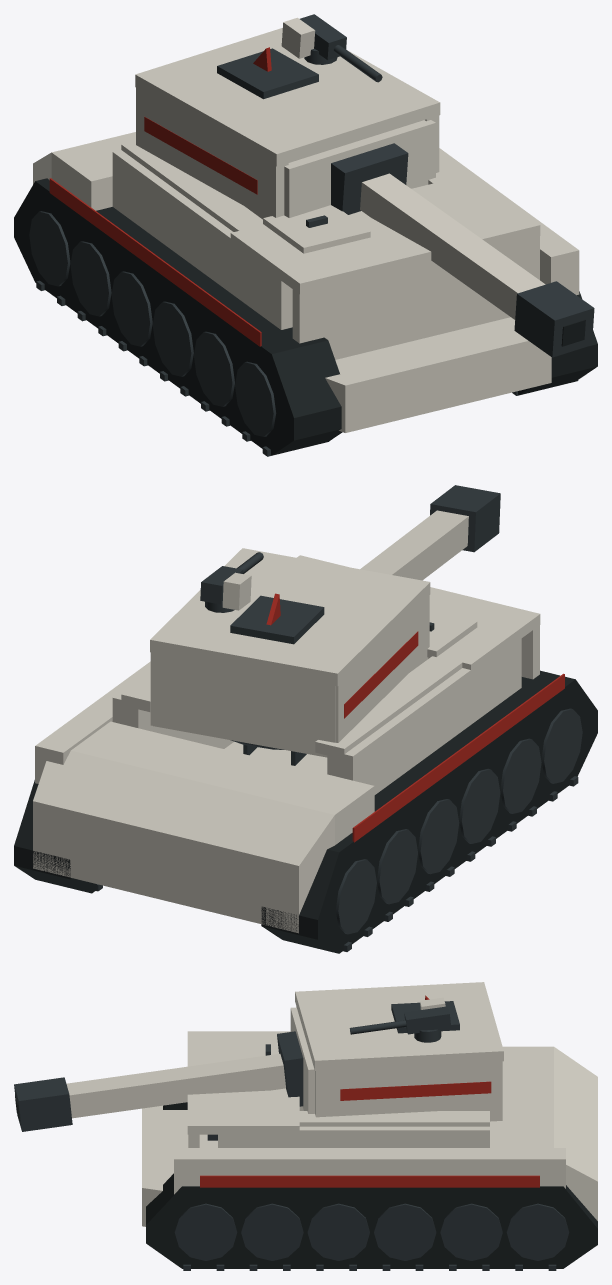
3 renders of one model, top to bottom at view 1: azimuth 30°, elevation 25°; view 2: azimuth 150°, elevation 25°; view 3: azimuth 270°, elevation 25°, orthographic. The views are drawn at different scales.
Visible parts, largest first — view 1: tank-fleet-armor, turret-fleet-armor, tank-fleet-rubber, tank-fleet-machine, cannon-recoil-painted, tank-fleet-red, barrel-fleet-machine, turret-fleet-machine, breakaway-1-painted, machine-gun-pitch-painted, turret-fleet-red; view 2: tank-fleet-armor, turret-fleet-armor, tank-fleet-rubber, tank-fleet-machine, cannon-recoil-painted, tank-fleet-red, breakaway-1-painted, turret-fleet-machine, machine-gun-pitch-painted, turret-fleet-red; view 3: tank-fleet-armor, turret-fleet-armor, tank-fleet-rubber, tank-fleet-machine, breakaway-1-painted, cannon-recoil-painted, tank-fleet-red, turret-fleet-red, barrel-fleet-machine, machine-gun-pitch-painted, turret-fleet-machine, machine-gun-recoil-painted.
Part boxes in pixels (x1,y1,x2,y2): tank-fleet-armor: (33,132,551,432); turret-fleet-armor: (135,27,440,219); tank-fleet-rubber: (14,178,597,455); tank-fleet-machine: (29,211,578,456); cannon-recoil-painted: (360,173,594,357); tank-fleet-red: (49,178,261,346); barrel-fleet-machine: (331,143,408,214); turret-fleet-machine: (217,48,318,99); breakaway-1-painted: (439,148,579,295); machine-gun-pitch-painted: (281,14,346,60); turret-fleet-red: (144,47,271,194); tank-fleet-armor: (33,555,540,933); turret-fleet-armor: (150,548,430,757); tank-fleet-rubber: (14,670,597,953); tank-fleet-machine: (96,622,582,951); cannon-recoil-painted: (360,485,500,580); tank-fleet-red: (352,673,564,842); breakaway-1-painted: (35,661,150,783); turret-fleet-machine: (230,595,324,644); machine-gun-pitch-painted: (200,566,251,610); turret-fleet-red: (266,593,418,718); tank-fleet-armor: (142,1031,597,1226); turret-fleet-armor: (290,982,503,1121); tank-fleet-rubber: (146,1102,597,1268); tank-fleet-machine: (174,1044,569,1270); breakaway-1-painted: (174,1148,565,1194); cannon-recoil-painted: (14,1053,285,1131); tank-fleet-red: (200,1175,539,1187); turret-fleet-red: (340,995,491,1100); barrel-fleet-machine: (277,1031,303,1106); machine-gun-pitch-painted: (404,997,451,1034); turret-fleet-machine: (391,1001,459,1033); machine-gun-recoil-painted: (349,1020,406,1034).
Bounding box in the file's own units: 21.11 × 17.75 × 42.56.
